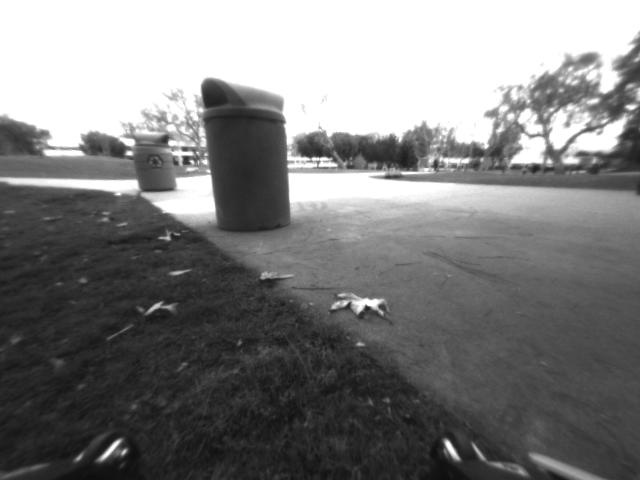trashcan: (195, 69, 302, 231)
